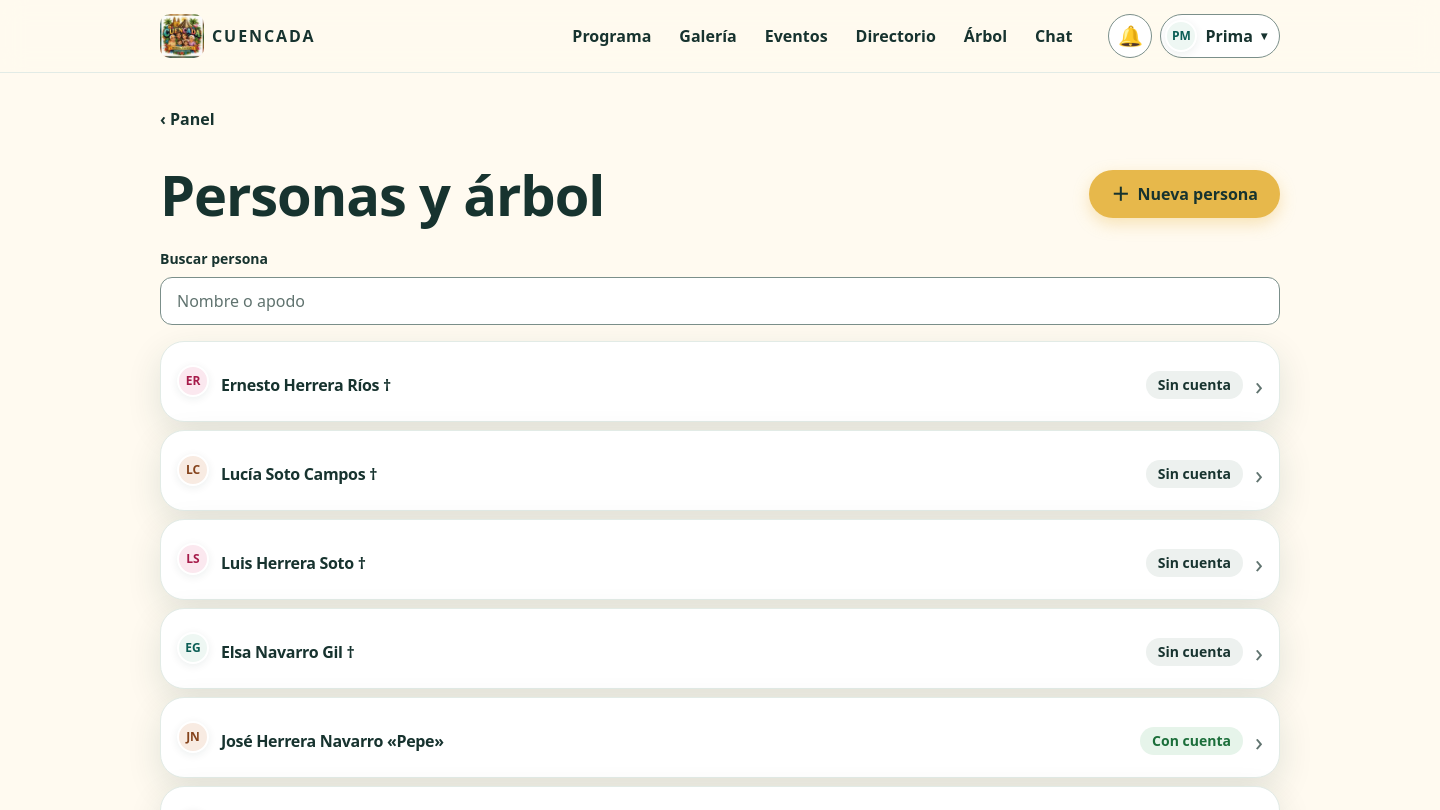
Scenario: AdminFamilyPage › creates a person and opens their editor
The image size is (1440, 810).
Click the button "＋ Nueva persona" at point(1185, 194), box [1089,170,1280,218]
(page scrolled)
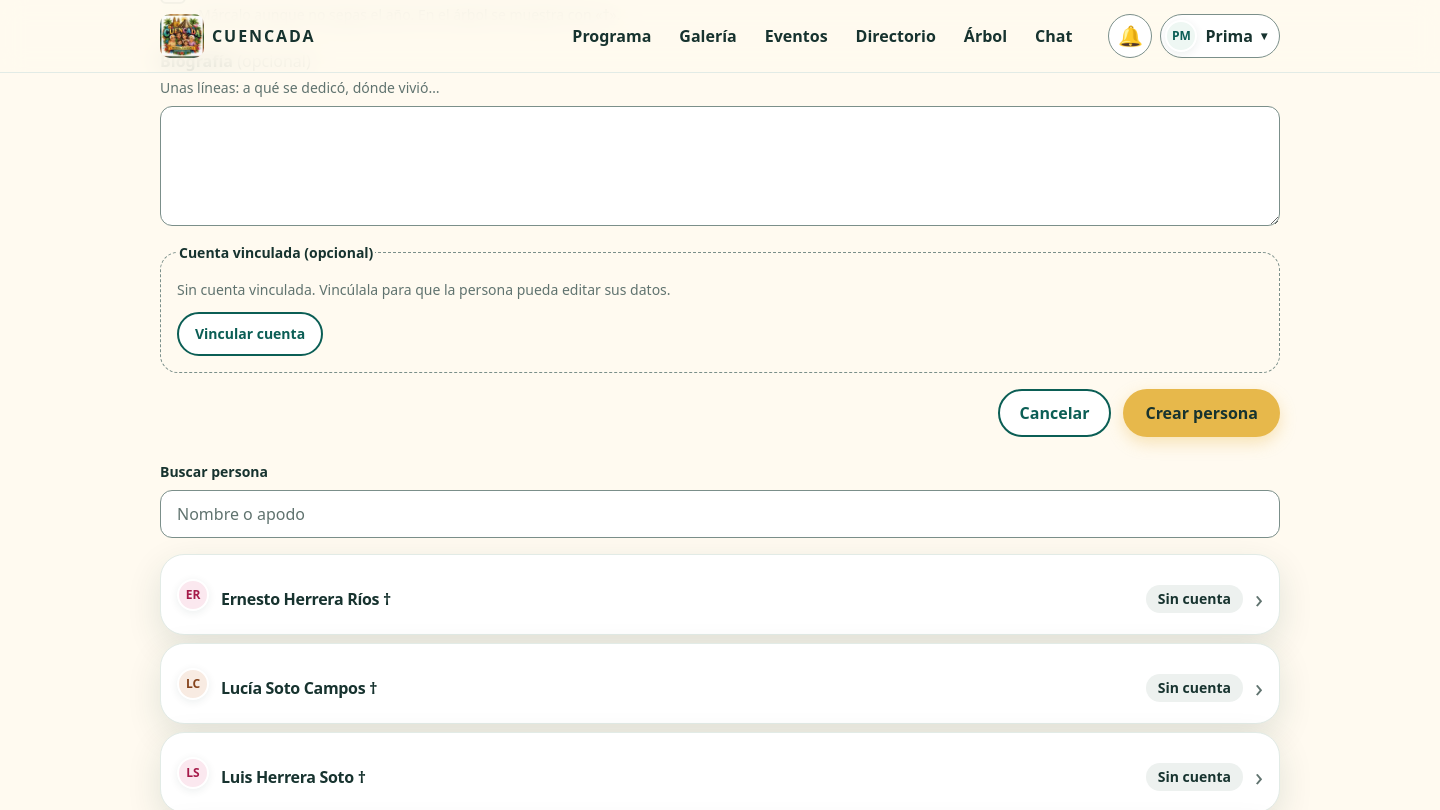
Click the button "Crear persona" at point(1202, 413), box [1123,389,1280,437]
(page scrolled)
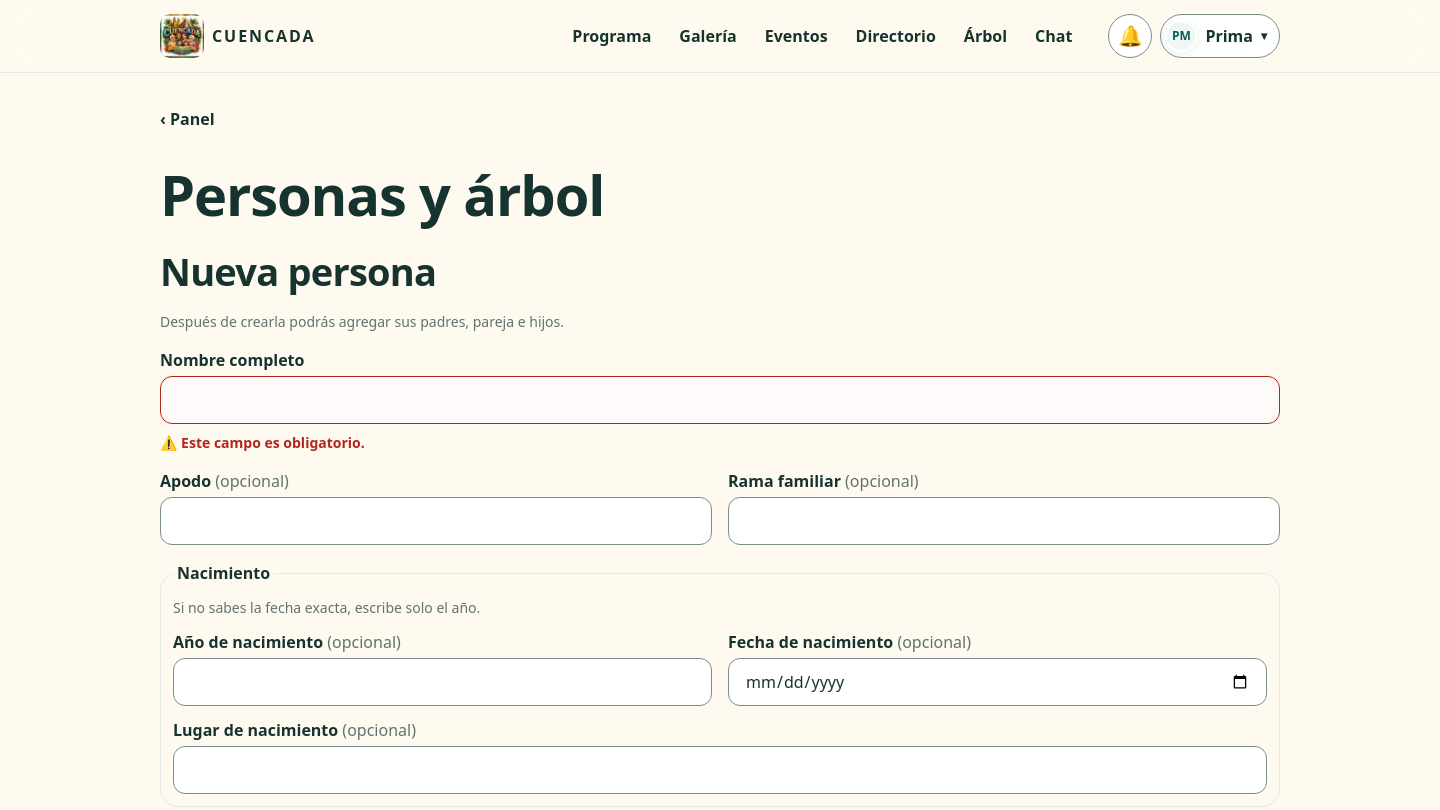
Now the text "Este campo es obligatorio." is shown, box [181,433,365,452]
Type "Clara Ríos Peña" into the field labelled "Nombre completo" at point(720, 400), box [160,376,1280,424]
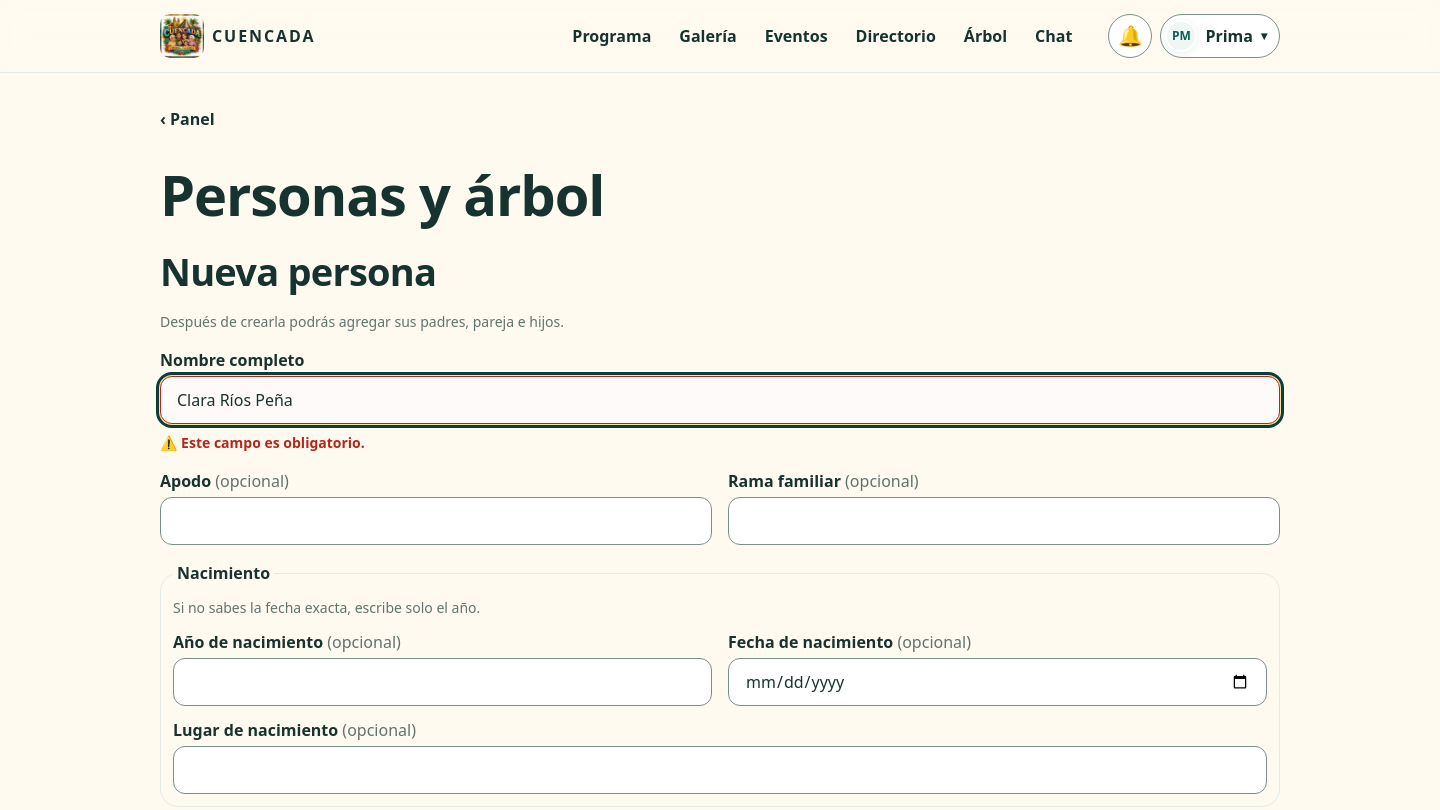
Type "1990" into the field labelled "Año de nacimiento (opcional)" at point(442, 682), box [173,658,712,706]
(page scrolled)
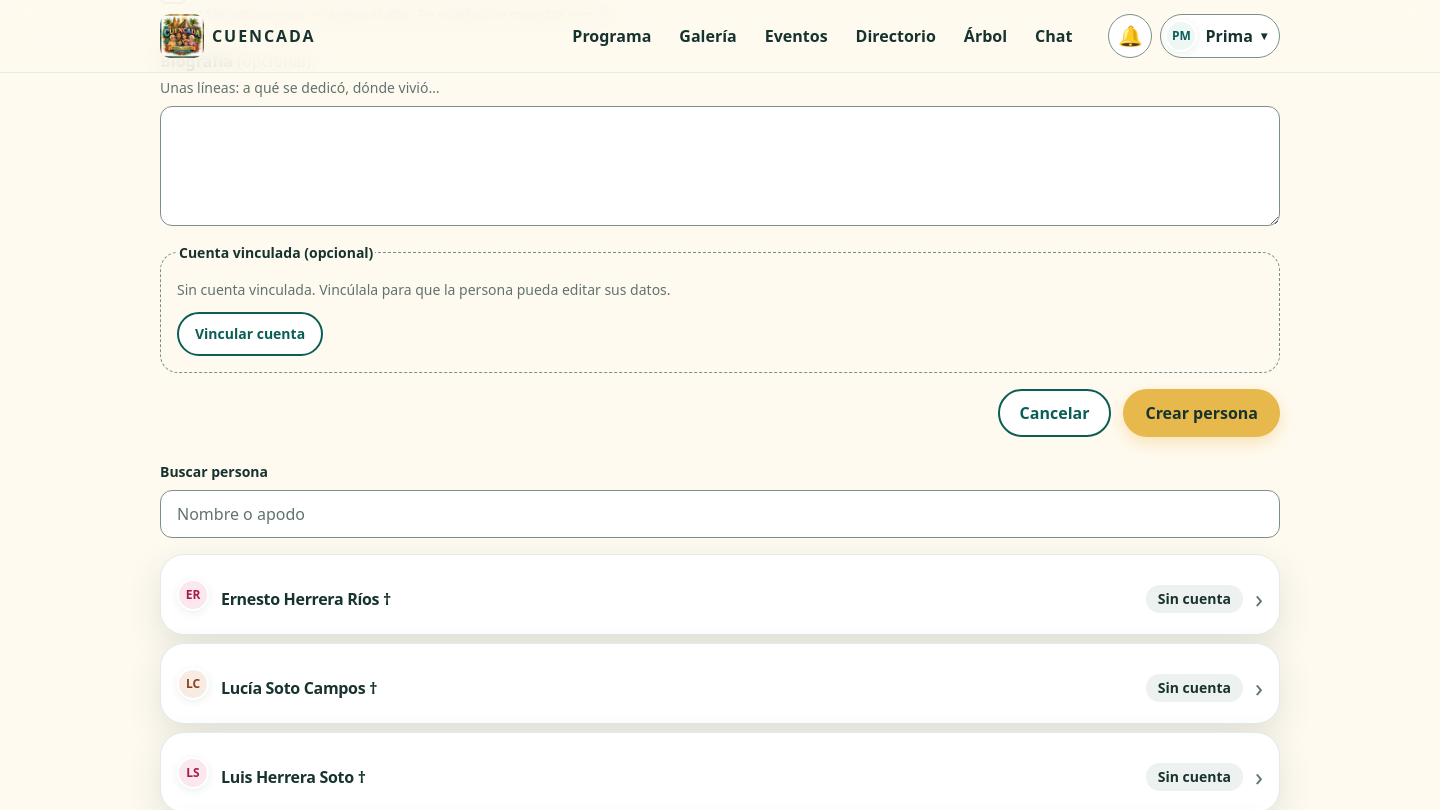
Click the button "Crear persona" at point(1202, 413), box [1123,389,1280,437]
(page scrolled)
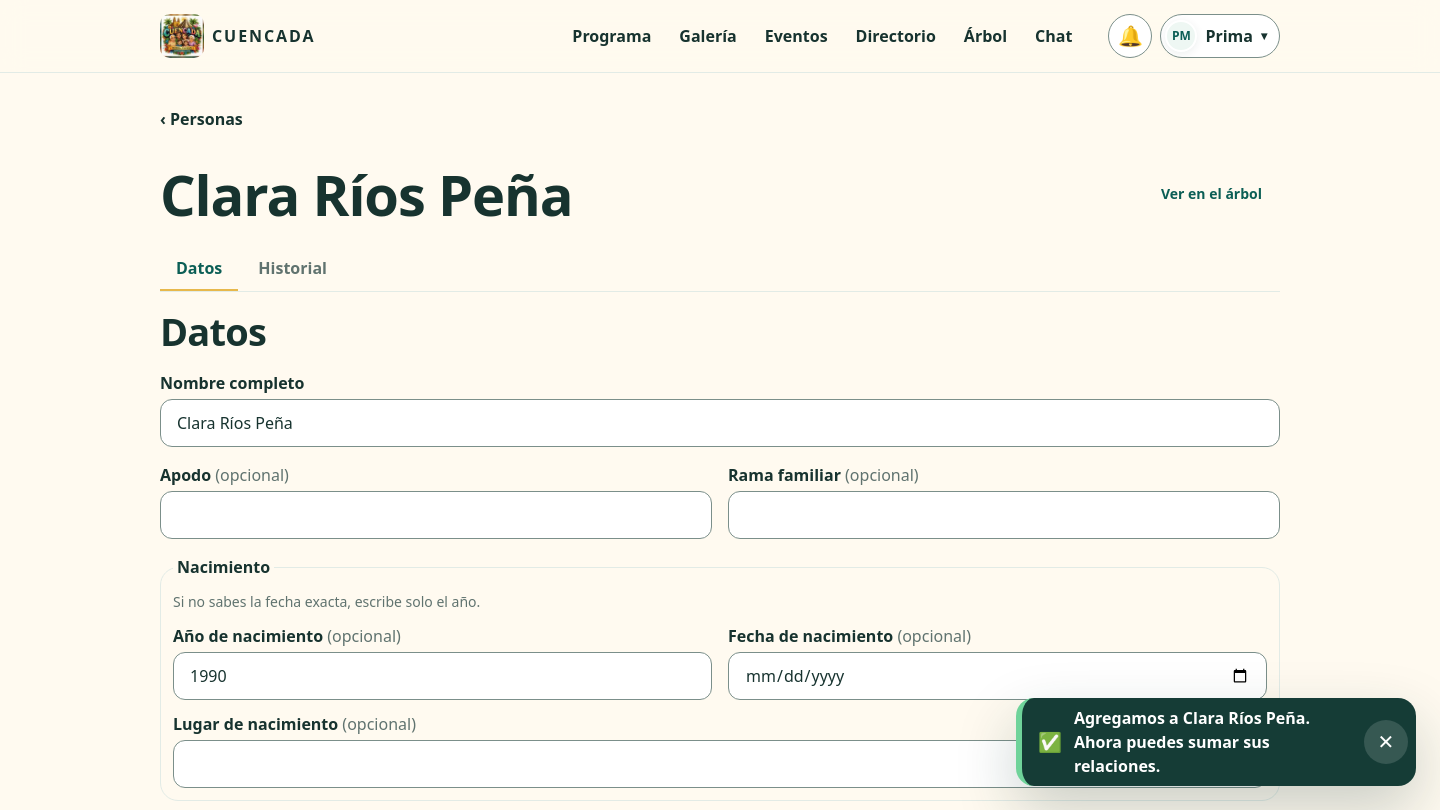
Now the heading "Clara Ríos Peña" is shown, box [160,165,572,224]
